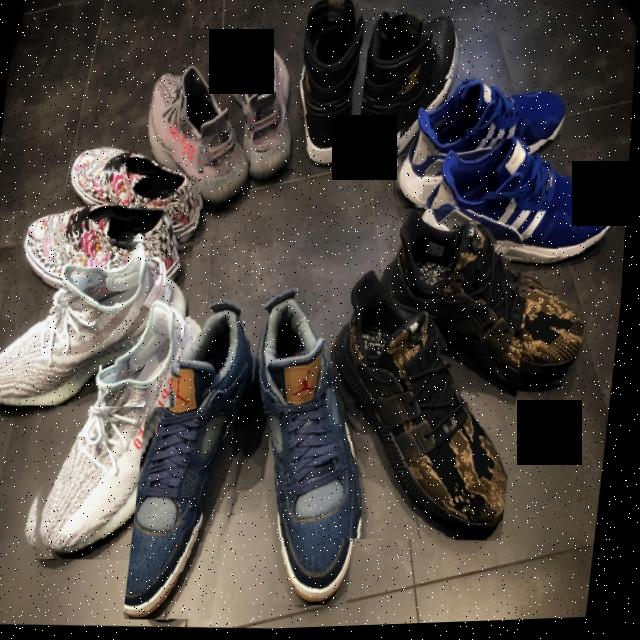shoe: (315, 268, 535, 551), (25, 284, 210, 568), (234, 286, 385, 612), (130, 292, 273, 626), (372, 206, 604, 403), (0, 227, 198, 415), (416, 135, 633, 288), (392, 77, 572, 217), (139, 62, 262, 218), (357, 7, 465, 175), (26, 201, 189, 297), (64, 143, 209, 248), (290, 0, 374, 175), (218, 26, 307, 185)
